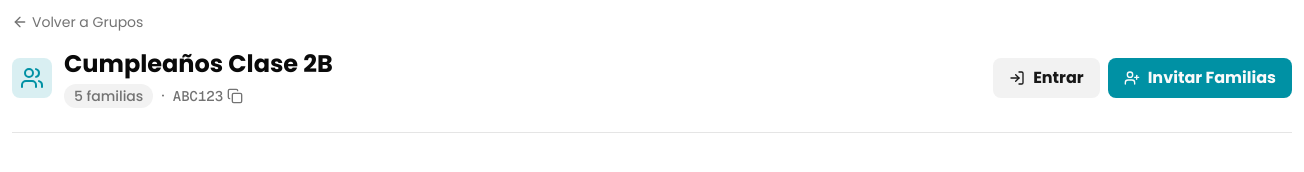
Test case: GroupHeader › muestra feedback al hacer clic en el código
What coordinates should you click on to do the following:
click the button titled "Copiar código"
I would click on:
 (208, 96)
Its box is 173,86 -> 243,106.
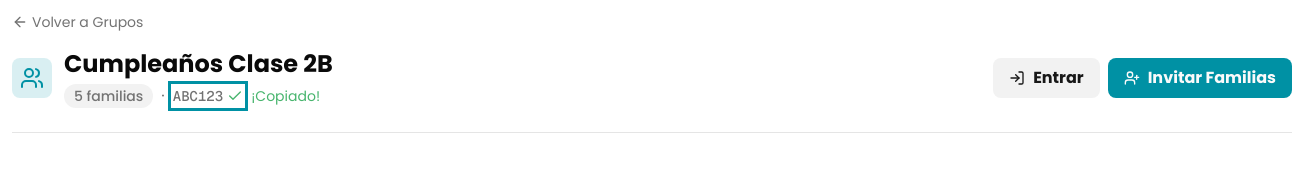
expect the text "¡Copiado!" is shown: met, box 251,86 -> 320,106
